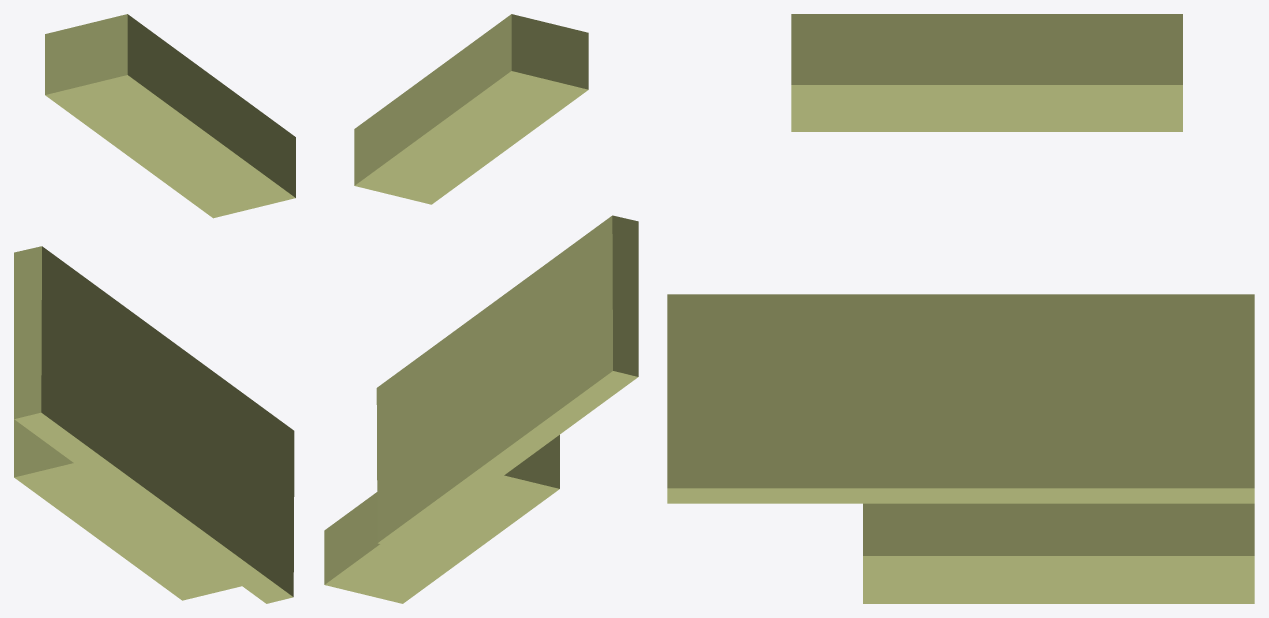
The picture shows the model from 3 angles, left to right: view 1: azimuth 30°, elevation 25°; view 2: azimuth 150°, elevation 25°; view 3: azimuth 270°, elevation 25°; orthographic projection. The views are drawn at different scales.
Parts seen in each view (by area): view 1: 0_2_0_1_1_2_1_0_3_1_0; view 2: 0_2_0_1_1_2_1_0_3_1_0; view 3: 0_2_0_1_1_2_1_0_3_1_0.
Boxes of the visible parts, x1,y1,x2,y2 form: 0_2_0_1_1_2_1_0_3_1_0: (14,14,295,603); 0_2_0_1_1_2_1_0_3_1_0: (324,14,638,603); 0_2_0_1_1_2_1_0_3_1_0: (667,14,1254,603).
Bounding box in the file's own units: 1.73 × 9.17 × 9.
